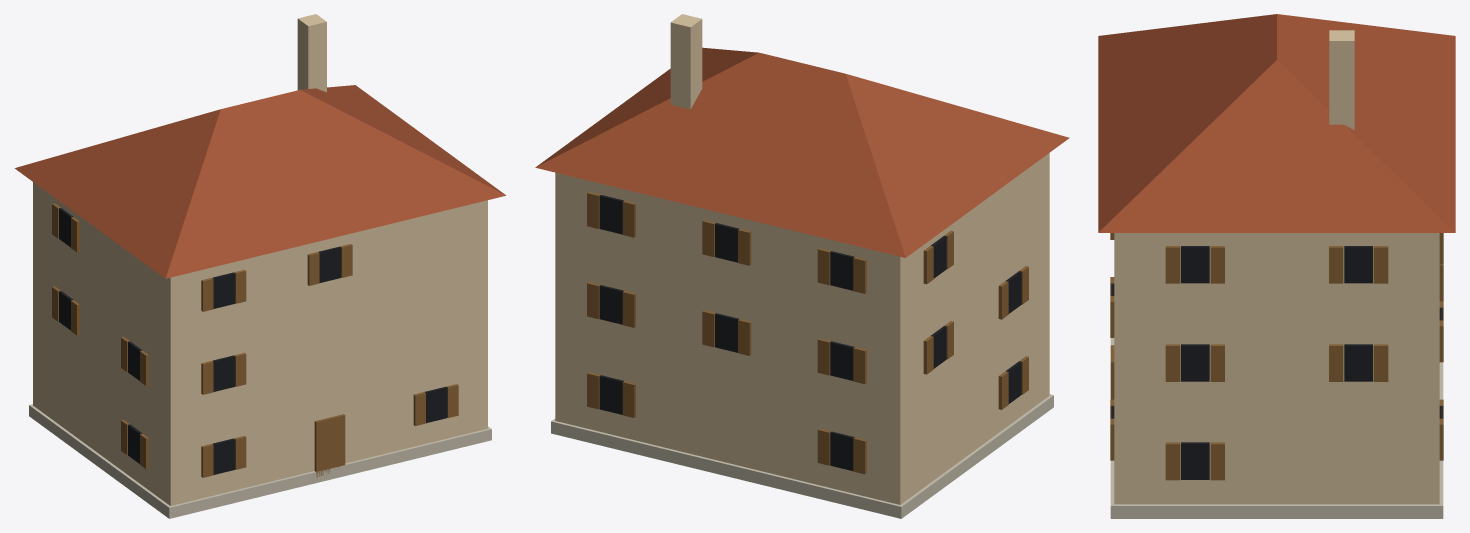
File: a18_house_7.glb
The picture shows the model from 3 angles, left to right: view 1: azimuth 30°, elevation 25°; view 2: azimuth 150°, elevation 25°; view 3: azimuth 270°, elevation 25°; orthographic projection. The views are drawn at different scales.
Parts seen in each view (by area): view 1: body; view 2: body; view 3: body.
Part boxes in pixels (x1,y1,x2,y2): body: [14, 14, 505, 518]; body: [535, 14, 1069, 518]; body: [1098, 14, 1455, 518].
Bounding box in the file's own units: 1 × 1.03 × 0.7674.
